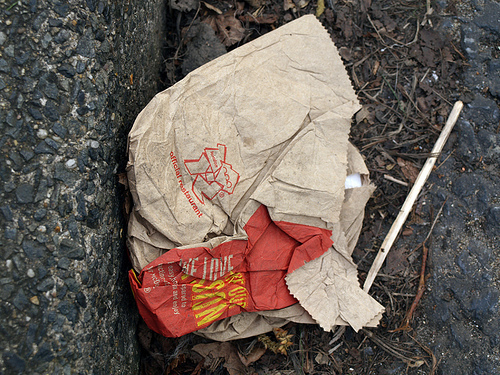litter: (127, 12, 384, 340)
